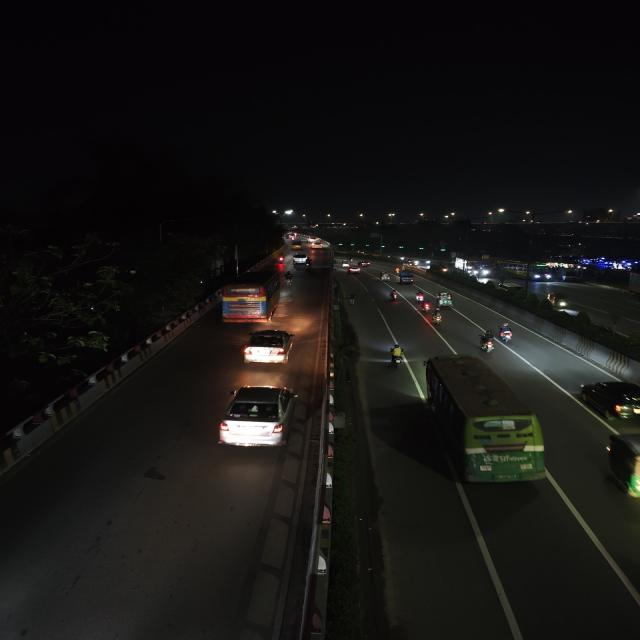bus: (416, 352, 552, 491), (218, 270, 284, 326), (496, 259, 554, 282), (461, 258, 490, 277)
car: (214, 381, 301, 454), (577, 376, 640, 424), (240, 327, 296, 368), (291, 252, 311, 267), (346, 264, 361, 274), (358, 260, 372, 268), (309, 240, 322, 248)
cng: (544, 290, 570, 312), (436, 290, 456, 309), (378, 271, 391, 284), (342, 259, 351, 267)
motorcycle: (384, 342, 410, 370), (476, 331, 500, 356), (496, 321, 517, 345), (429, 308, 445, 328), (282, 271, 295, 288), (413, 289, 427, 304), (346, 292, 361, 306), (388, 288, 402, 302), (275, 253, 287, 265), (421, 300, 432, 312)
pickup_van: (398, 270, 417, 285), (289, 239, 304, 251)
